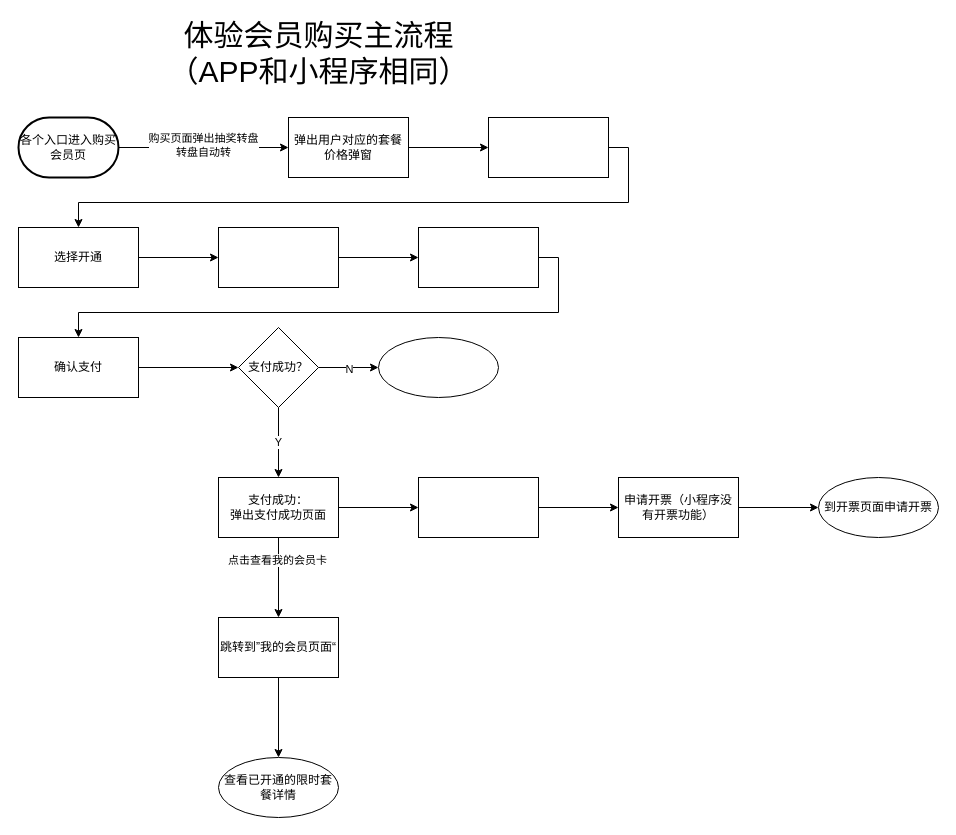
Image size: 956x835. Some labels were removed from this diagram. The box of each missing label's shape, as (x1, y1, x2, y2) in pixels:
支付失败： 弹出支付失败页面: (378, 336, 498, 398)
确认价格/选择优惠券？: (418, 226, 538, 288)
购买记录: (418, 476, 538, 538)
进入到会员购买落地页: (488, 116, 608, 178)
进入购买页面: (218, 226, 338, 288)
